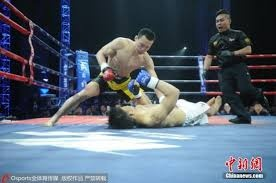falling: (104, 90, 223, 129)
